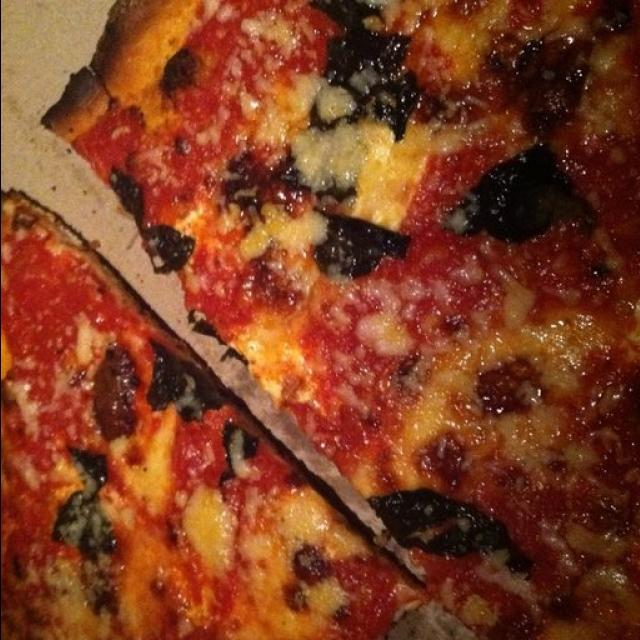basil: (217, 501, 334, 640), (48, 396, 197, 494), (107, 72, 272, 150), (524, 30, 586, 197), (48, 508, 153, 602), (444, 366, 532, 472), (409, 222, 502, 306), (230, 366, 330, 431), (2, 604, 47, 640)
pizza: (0, 0, 640, 640)
